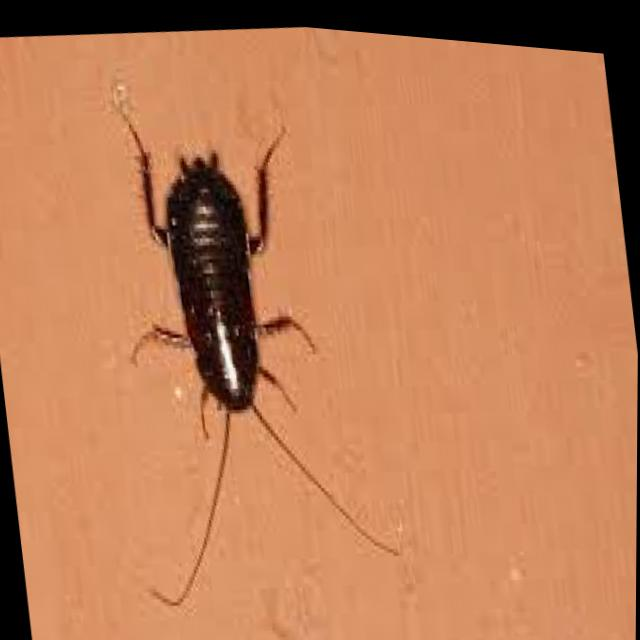Cockroach: (78, 75, 410, 640)
